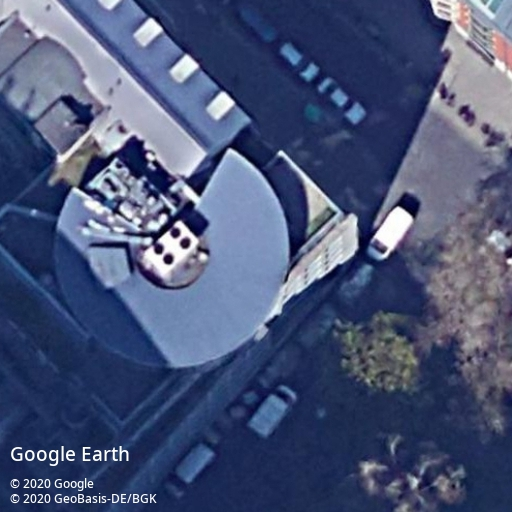Chiller: (142, 220, 201, 276)
